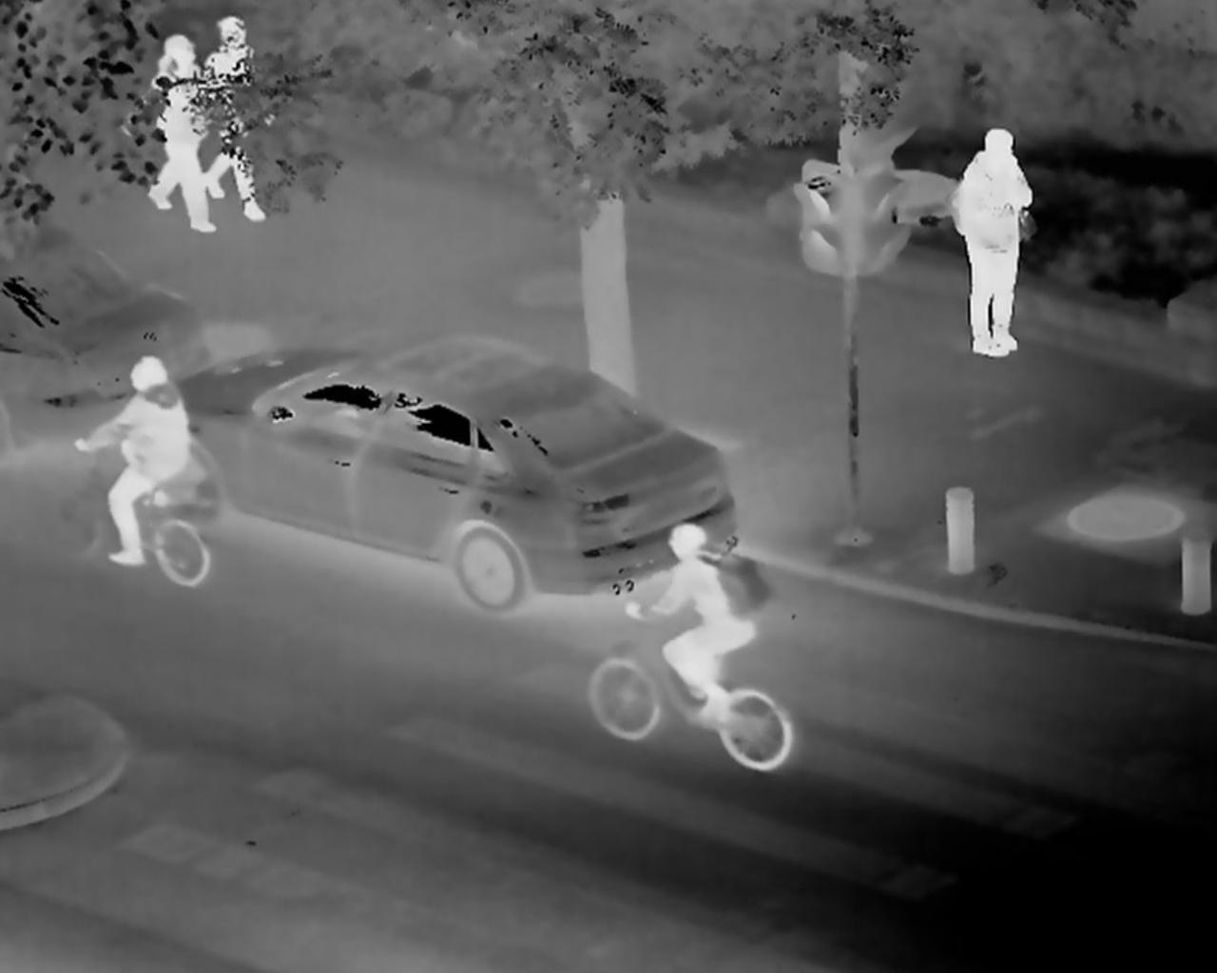person: (72, 350, 193, 586), (638, 524, 764, 740), (948, 124, 1029, 376), (146, 38, 228, 237)
